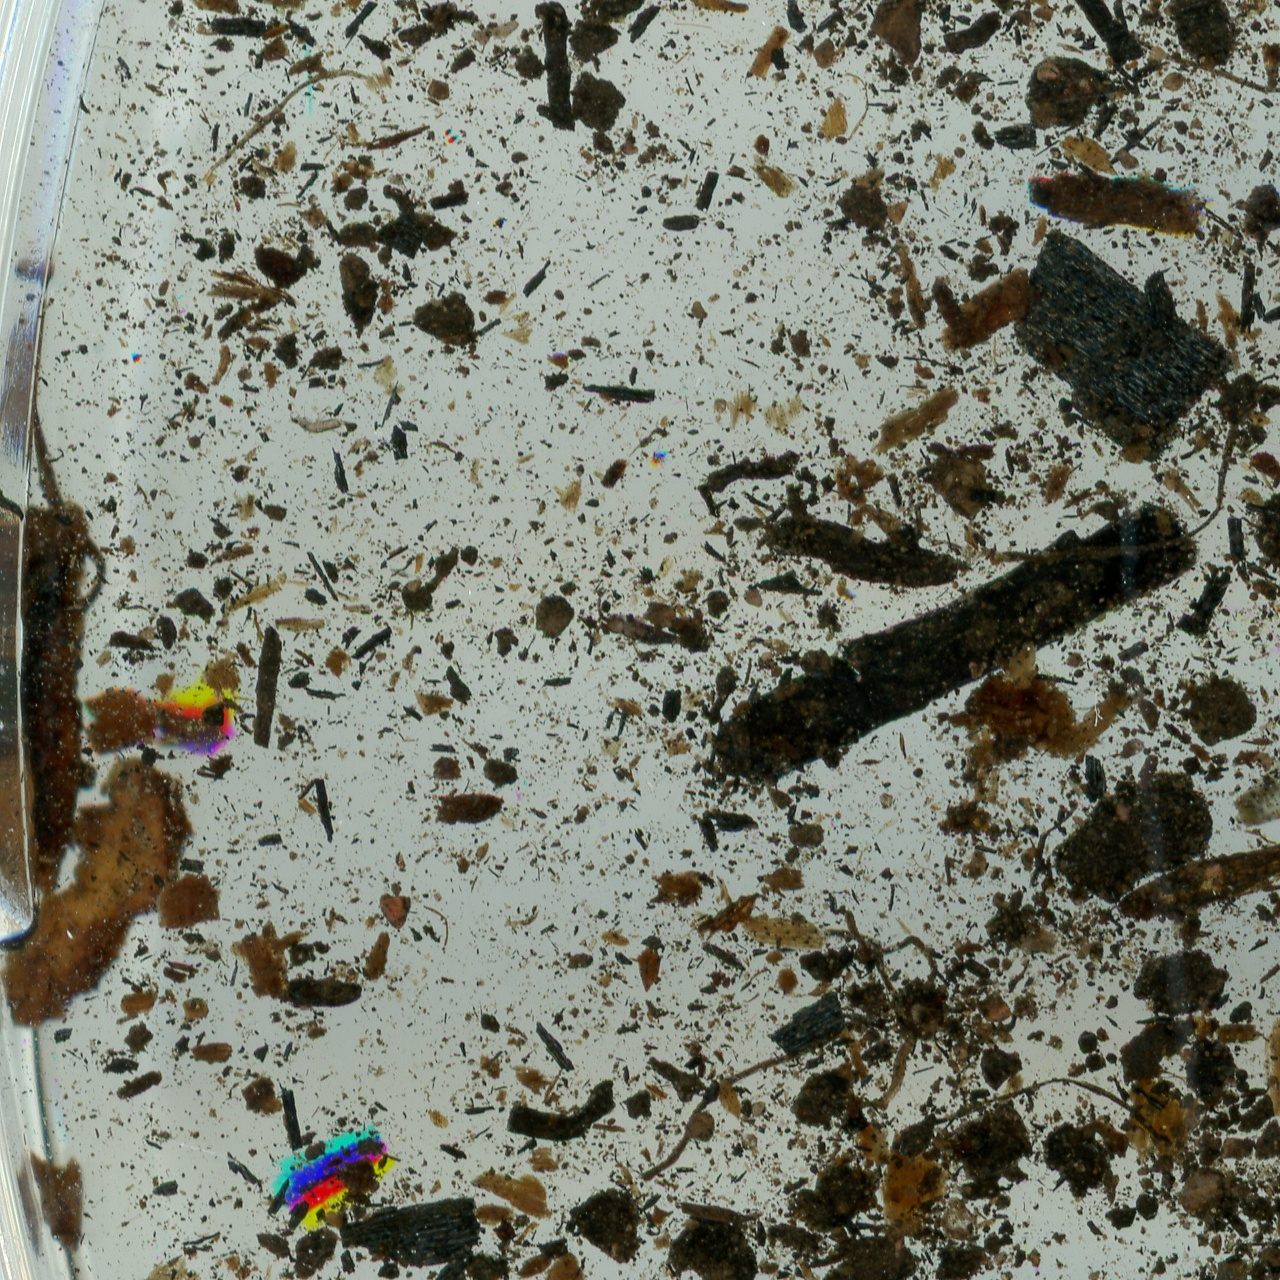arthropod: (582, 588, 686, 662), (269, 957, 365, 1012), (469, 15, 520, 55), (290, 406, 353, 437)
